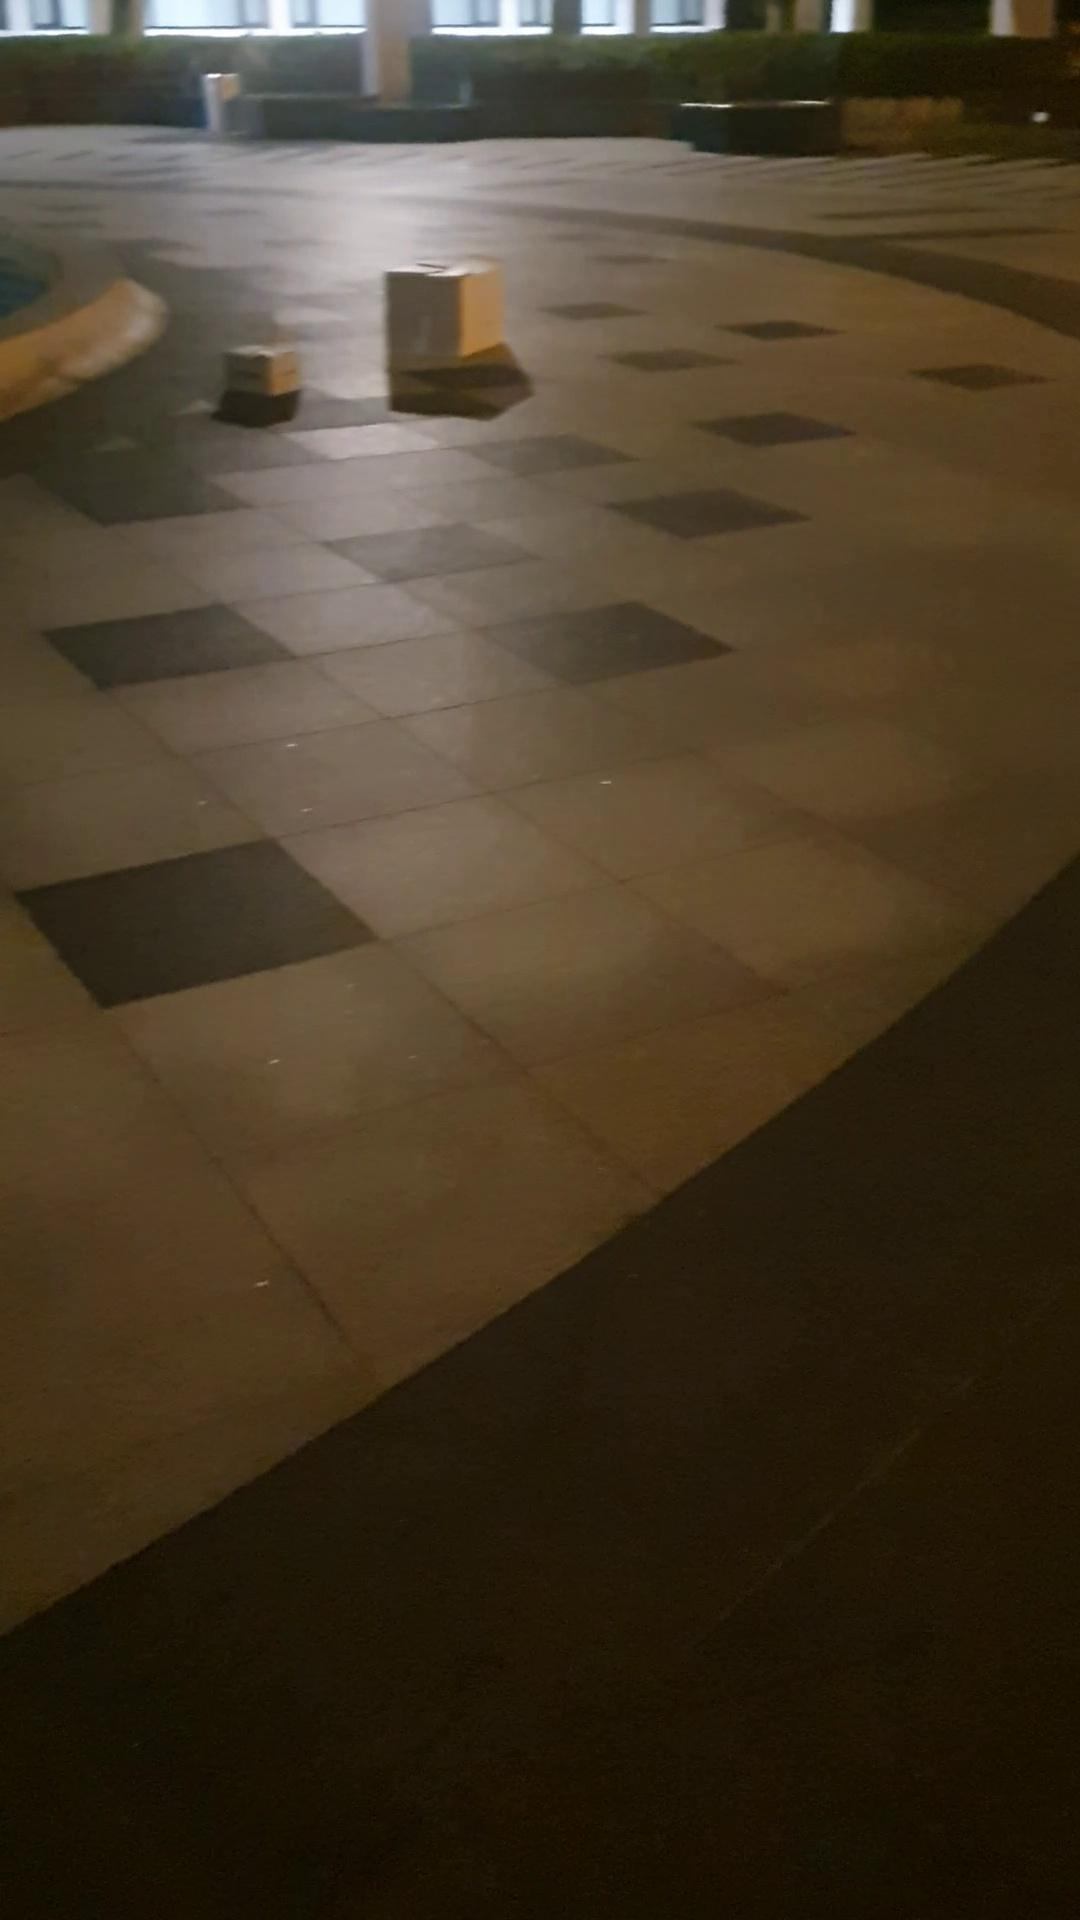Box: (373, 245, 512, 392), (218, 335, 316, 410)
